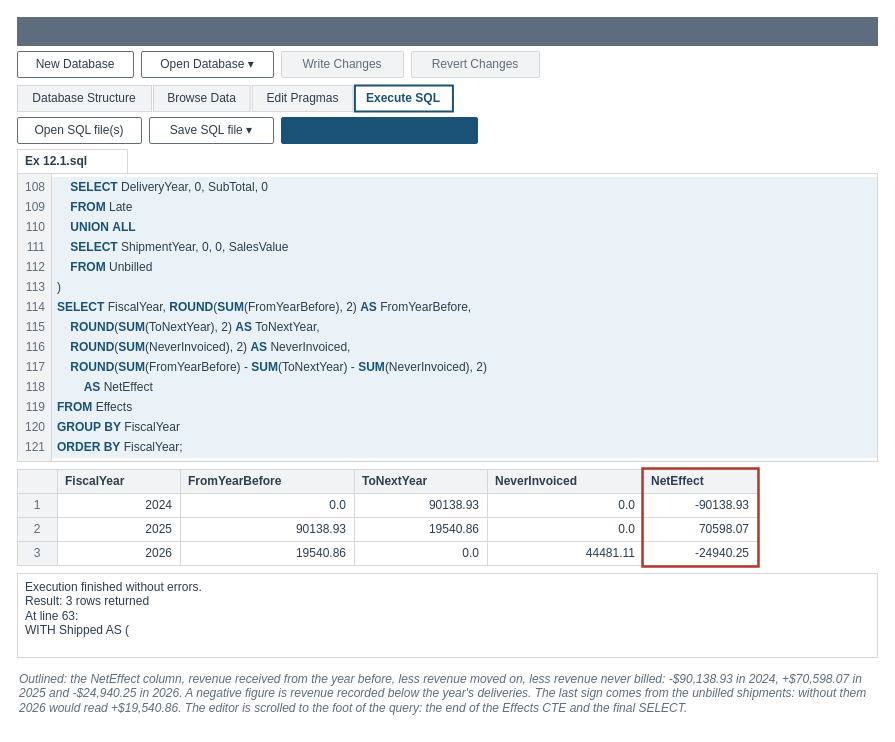
This 895x742 diagram has some shape labels left out. The shapes that lost their labels are listed below. From the top down, each one's centre as x and y in pixels, then its label:
pixel 447 31: DB Browser for SQLite - C:\Users\you\Documents\CharlesRiver_Work.sqlite
pixel 379 130: ▶ Execute all/selected SQL
